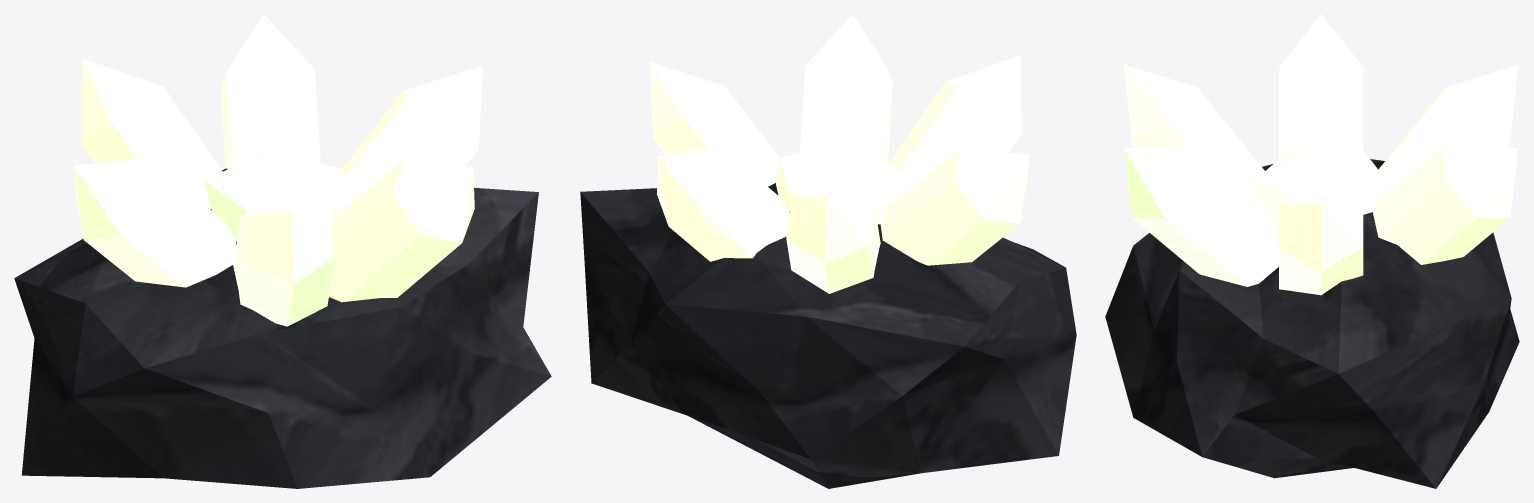
File: bloomheart_core.glb
3 views of the same model, side by side, from view 1: azimuth 30°, elevation 25°; view 2: azimuth 150°, elevation 25°; view 3: azimuth 270°, elevation 25° (orthographic). The views are drawn at different scales.
Visible parts, largest first — view 1: model; view 2: model; view 3: model.
Part boxes in pixels (bbox=[...]): model: bbox=[14, 14, 551, 488]; model: bbox=[580, 14, 1076, 488]; model: bbox=[1105, 14, 1519, 488].
Size of the model in its own units: 0.2891 by 0.1906 by 0.2129.
2 materials, 1 textured.
